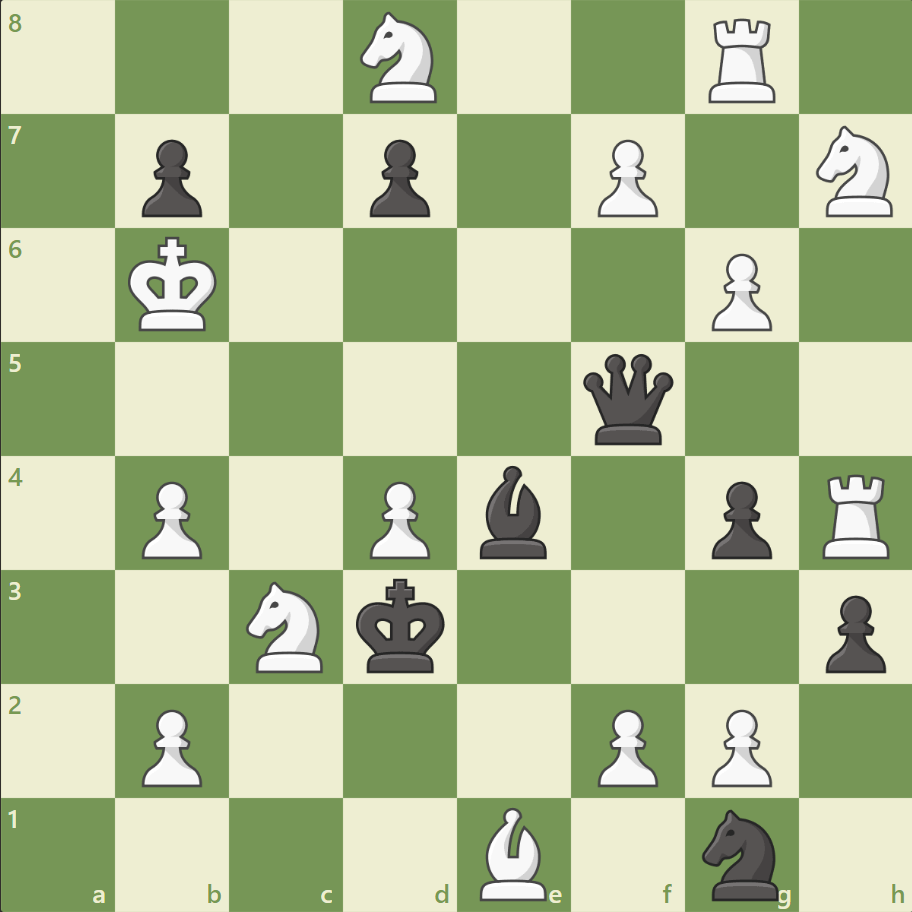B: (471, 801, 555, 904)
K: (124, 231, 224, 339)
N: (351, 7, 449, 110), (806, 121, 903, 223), (238, 575, 335, 677)
P: (701, 246, 776, 337), (133, 473, 208, 564), (133, 700, 208, 791), (701, 700, 776, 791), (588, 132, 662, 223), (361, 473, 435, 564), (588, 700, 662, 791)
R: (700, 12, 783, 109), (814, 466, 897, 563)
b: (471, 460, 555, 563)
k: (351, 571, 451, 679)
n: (692, 802, 789, 904)
p: (133, 132, 208, 223), (701, 473, 776, 564), (361, 132, 435, 223), (815, 586, 889, 677)
q: (578, 349, 677, 449)
